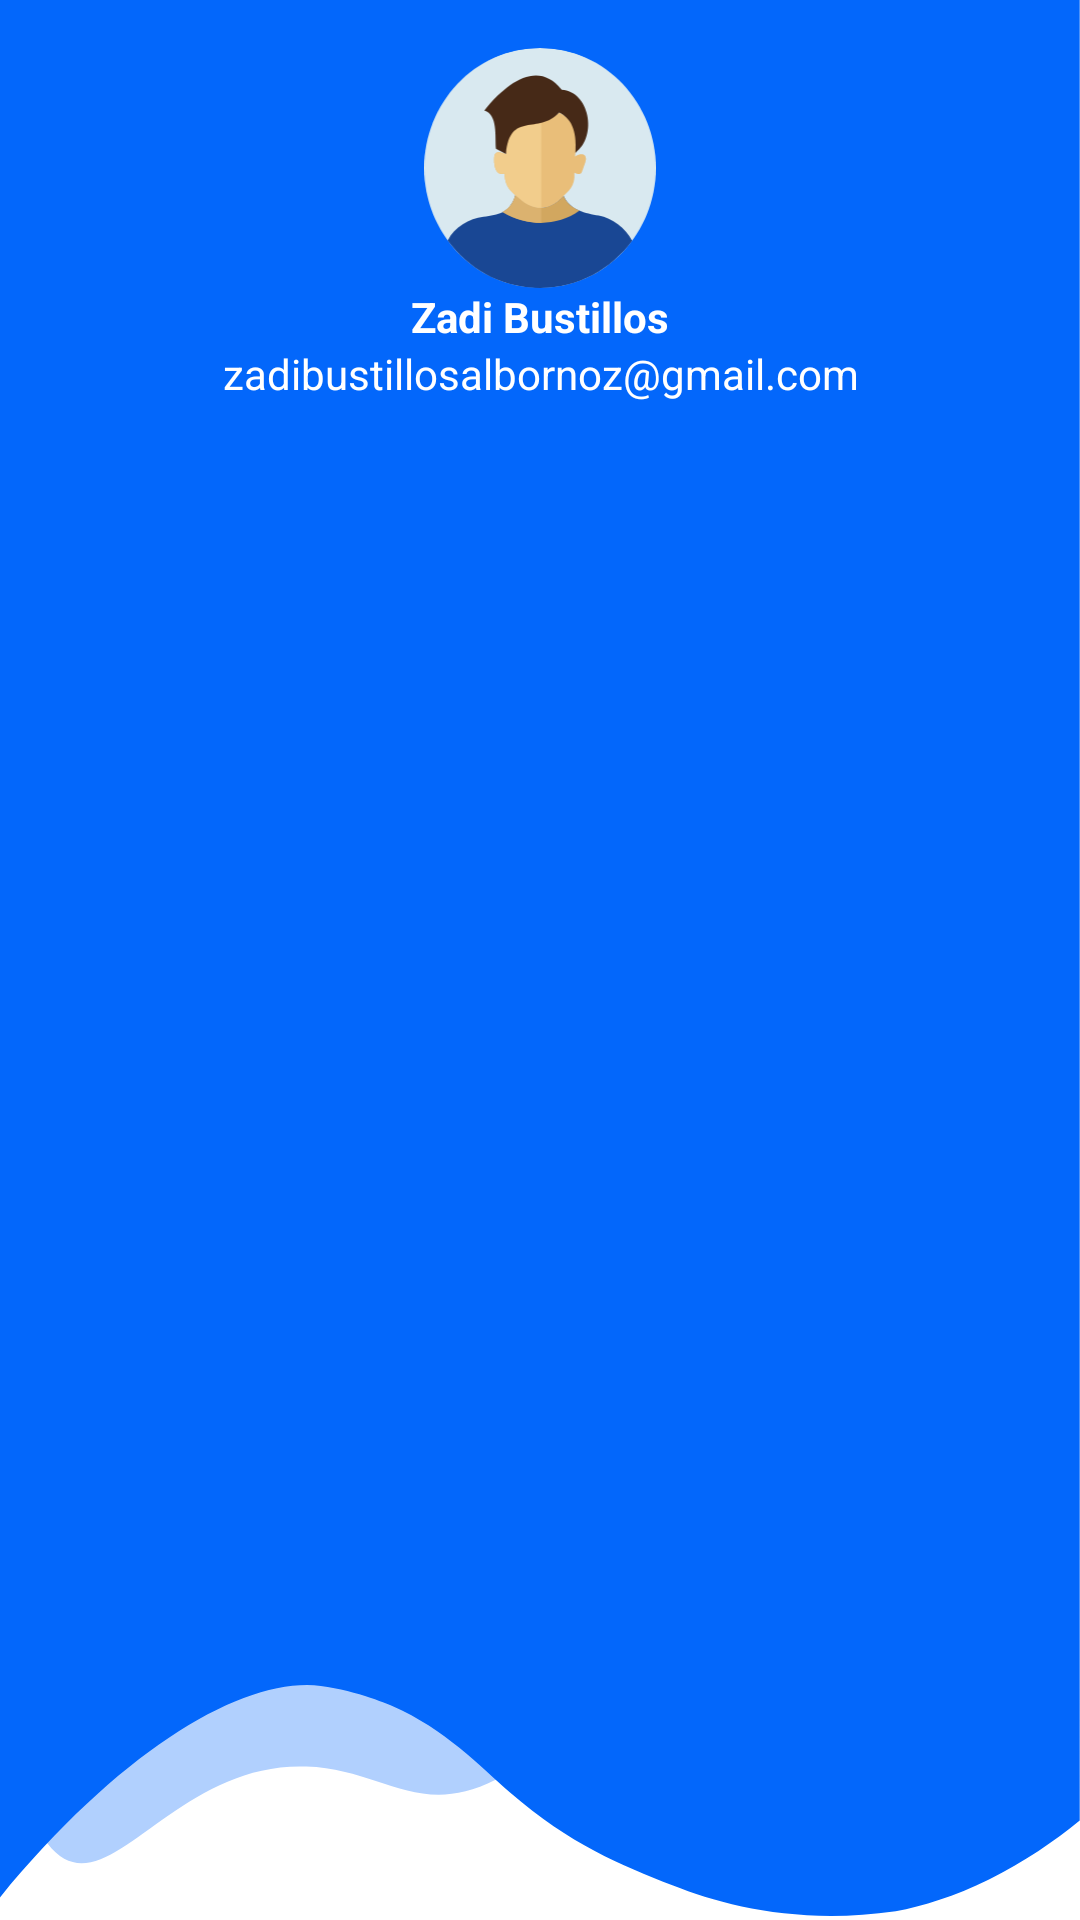

Screen size 1080×1920. Icon name, then its box in pixels as (x1, y1, x2, y2):
man user circle: (424, 48, 656, 288)
